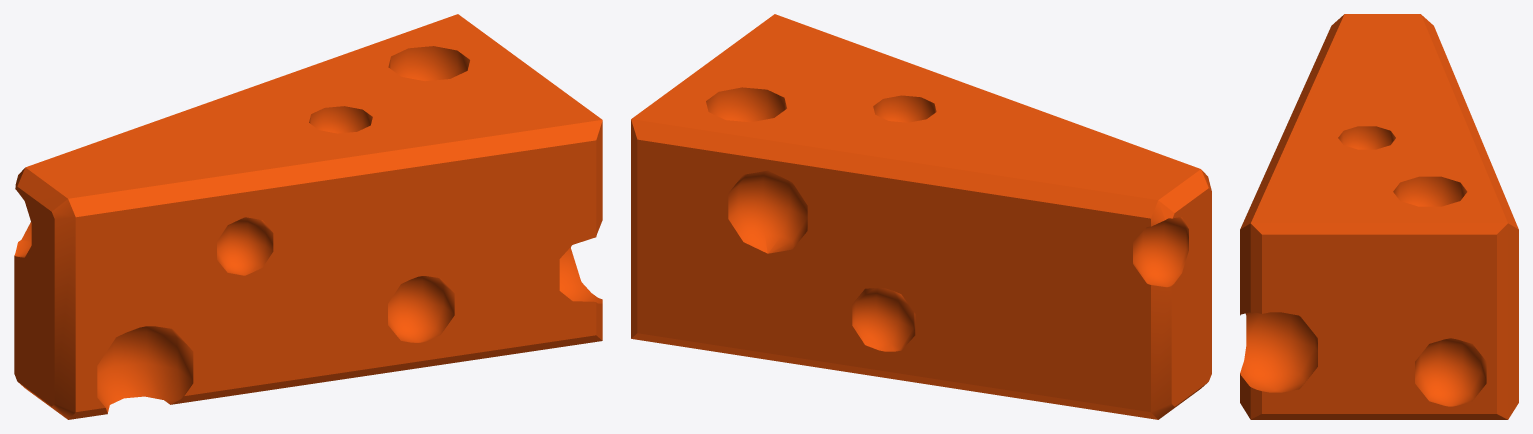
The model's file is Cheese.fbx.
3 views of the same model, side by side, from view 1: azimuth 30°, elevation 25°; view 2: azimuth 150°, elevation 25°; view 3: azimuth 270°, elevation 25° (orthographic). The views are drawn at different scales.
Parts seen in each view (by area): view 1: Box002; view 2: Box002; view 3: Box002.
Boxes of the visible parts, <box> form: Box002: <box>14,14,602,419</box>; Box002: <box>631,14,1211,419</box>; Box002: <box>1240,14,1518,419</box>.
Size of the model in its own units: 0.2604 by 0.11 by 0.1413.
